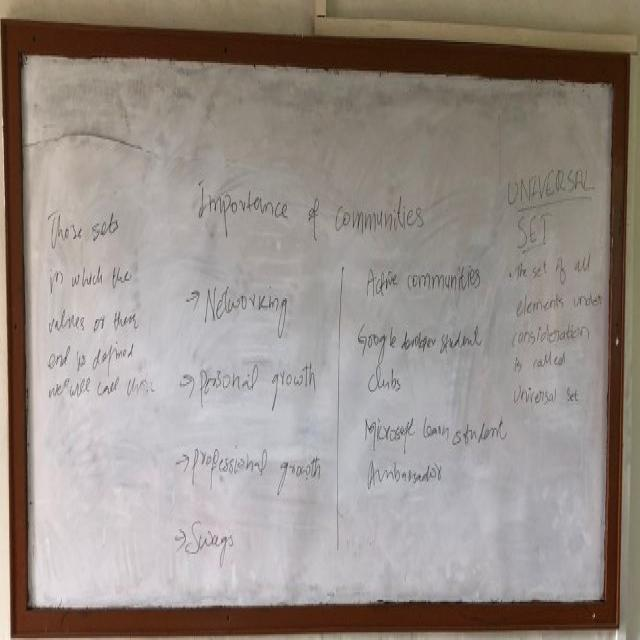White-board: (13, 34, 621, 627)
